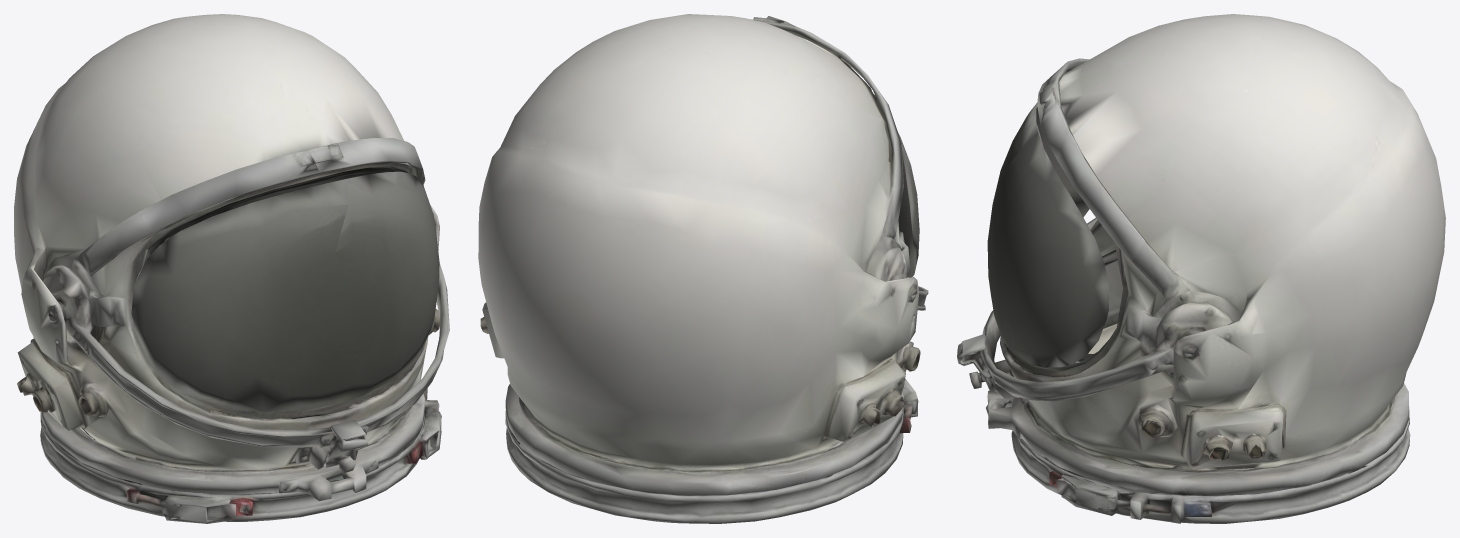
Rendered from helmet_gemini.glb.
The picture shows the model from 3 angles, left to right: view 1: azimuth 30°, elevation 25°; view 2: azimuth 150°, elevation 25°; view 3: azimuth 270°, elevation 25°; orthographic projection. The views are drawn at different scales.
Visible parts, largest first — view 1: tripo_node_66ec510d-5e9b-4eb7-b4b3-13b20a7b2e30; view 2: tripo_node_66ec510d-5e9b-4eb7-b4b3-13b20a7b2e30; view 3: tripo_node_66ec510d-5e9b-4eb7-b4b3-13b20a7b2e30.
Part boxes in pixels (x1,y1,x2,y2): tripo_node_66ec510d-5e9b-4eb7-b4b3-13b20a7b2e30: (14, 14, 449, 523); tripo_node_66ec510d-5e9b-4eb7-b4b3-13b20a7b2e30: (478, 14, 928, 523); tripo_node_66ec510d-5e9b-4eb7-b4b3-13b20a7b2e30: (957, 14, 1445, 523).
Bounding box in the file's own units: 0.3883 × 0.38 × 0.4129.
Materials: 1 (1 with a texture image).
